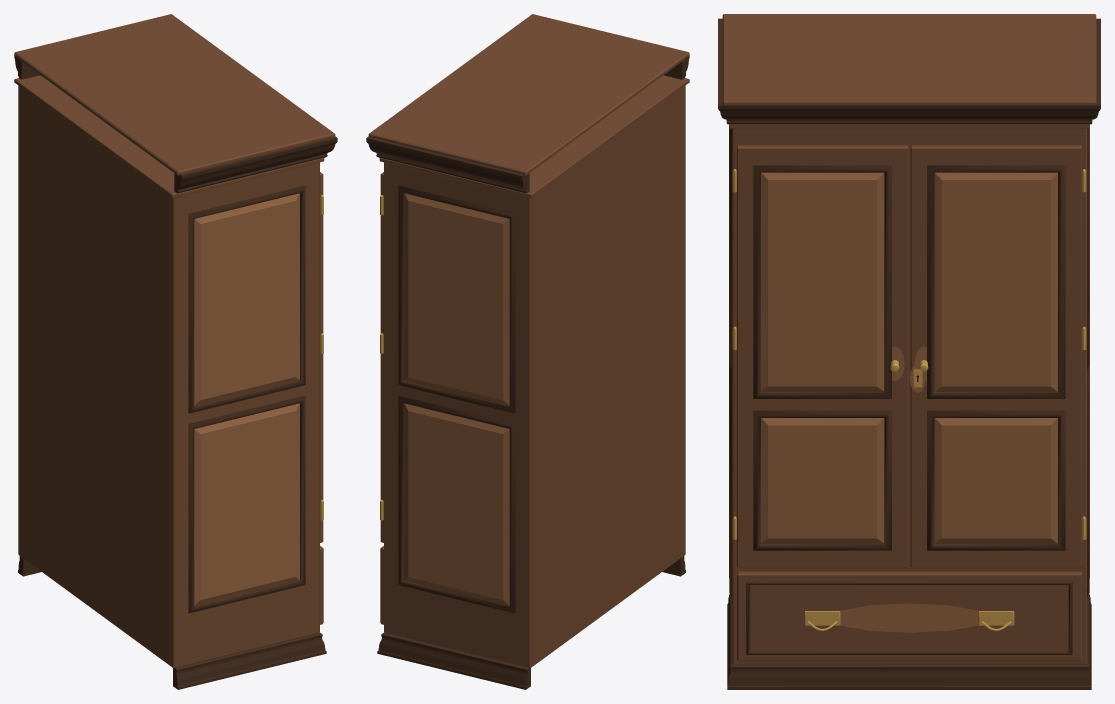
Rendered from wardrobe.glb.
The picture shows the model from 3 angles, left to right: view 1: azimuth 30°, elevation 25°; view 2: azimuth 150°, elevation 25°; view 3: azimuth 270°, elevation 25°; orthographic projection. The views are drawn at different scales.
Visible parts, largest first — view 1: korpus, fuellungen, deckplatte, leisten, sockel_kranz, tueren; view 2: korpus, fuellungen, deckplatte, leisten, sockel_kranz, tueren; view 3: fuellungen, tueren, deckplatte, leisten, sockel_kranz, korpus, abrieb, beschlaege.
Boxes of the visible parts, box(x1,y1,x2,y2) form: korpus: box(14, 75, 324, 668); fuellungen: box(194, 193, 299, 605); deckplatte: box(14, 14, 335, 175); leisten: box(188, 185, 305, 613); sockel_kranz: box(14, 56, 337, 689); tueren: box(320, 172, 323, 624); korpus: box(379, 75, 689, 668); fuellungen: box(404, 193, 509, 605); deckplatte: box(368, 14, 689, 175); leisten: box(398, 185, 515, 613); sockel_kranz: box(366, 56, 689, 689); tueren: box(380, 172, 383, 624); fuellungen: box(729, 128, 1089, 588); tueren: box(737, 145, 1081, 661); deckplatte: box(722, 14, 1096, 105); leisten: box(729, 128, 1089, 654); sockel_kranz: box(718, 18, 1100, 689); korpus: box(729, 124, 1089, 664); abrieb: box(840, 346, 978, 632); beschlaege: box(732, 169, 1086, 631).
Size of the model in its own units: 0.668 by 2.03 by 1.19.
